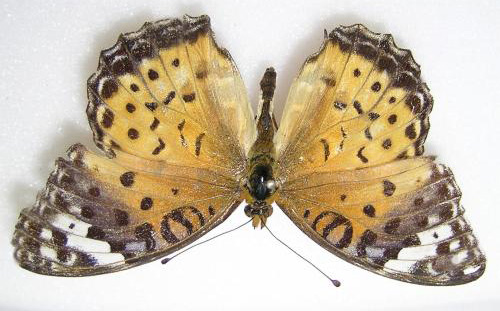Argyreus hyperbius: (9, 10, 486, 291)
butterfly: (11, 12, 488, 293)
